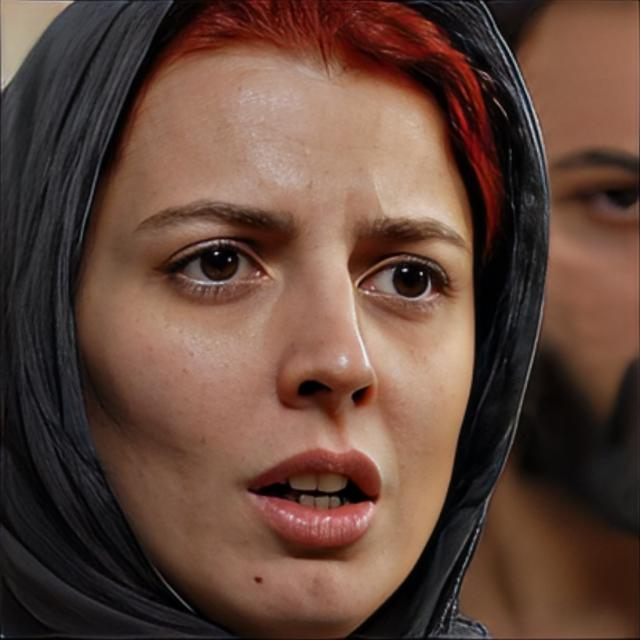disgust: (74, 31, 477, 640)
